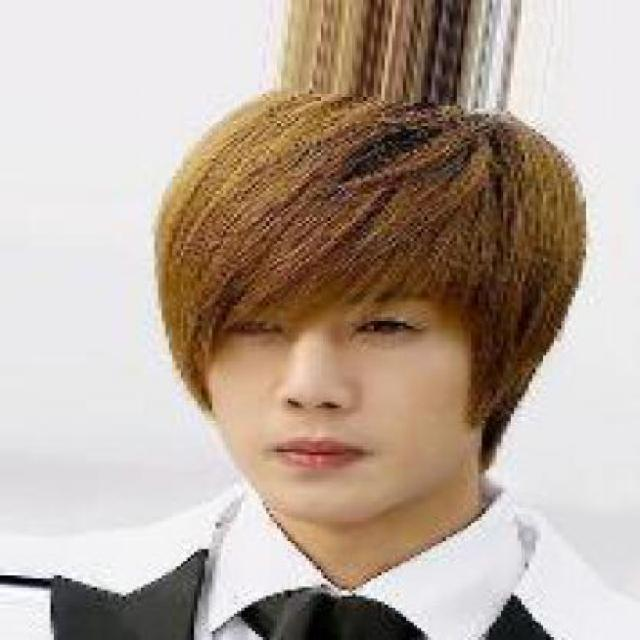closed-mouth: (268, 432, 366, 468)
